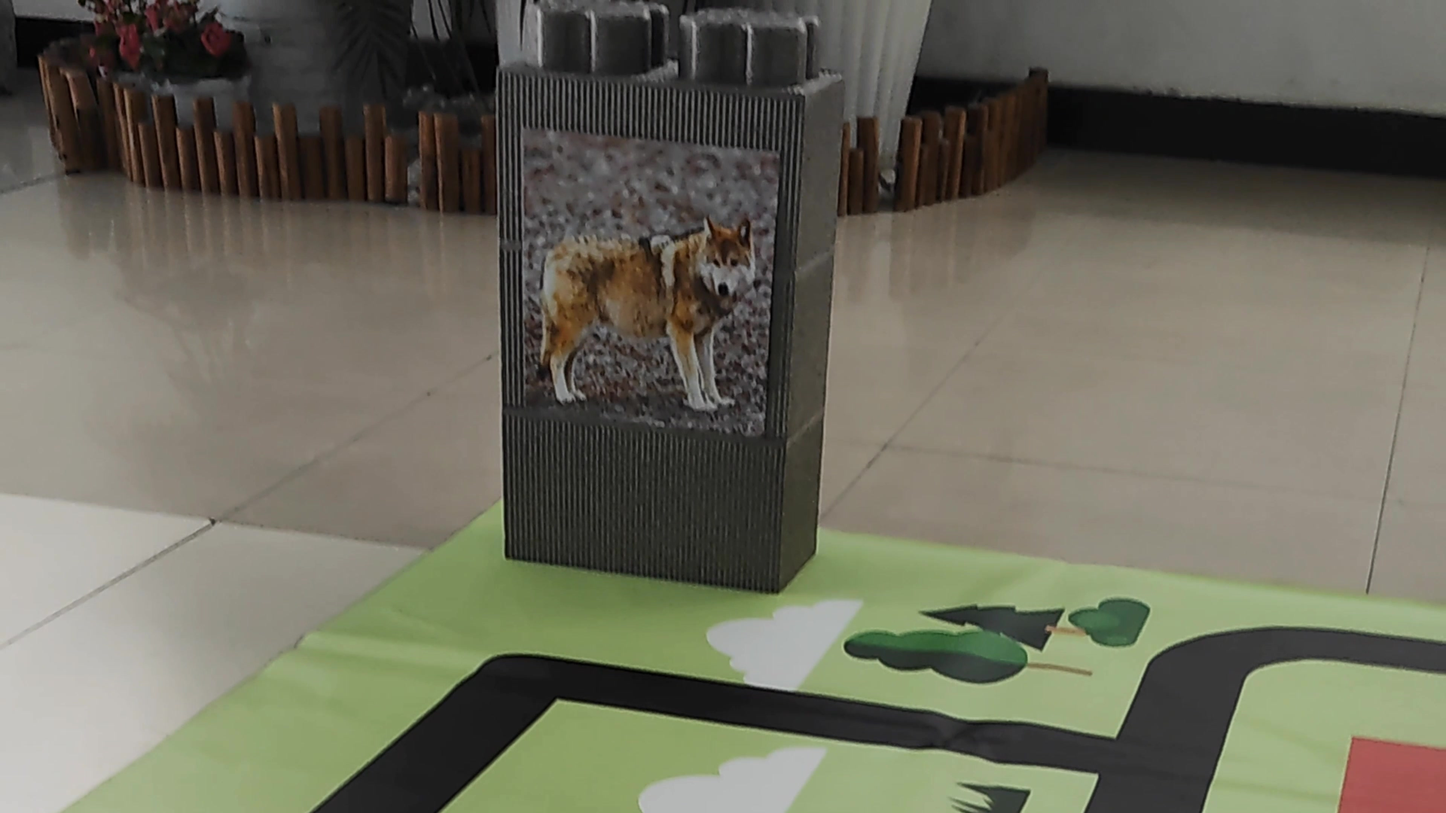wolf: (533, 126, 772, 425)
